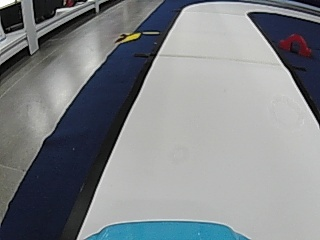bridge: (279, 32, 310, 56)
